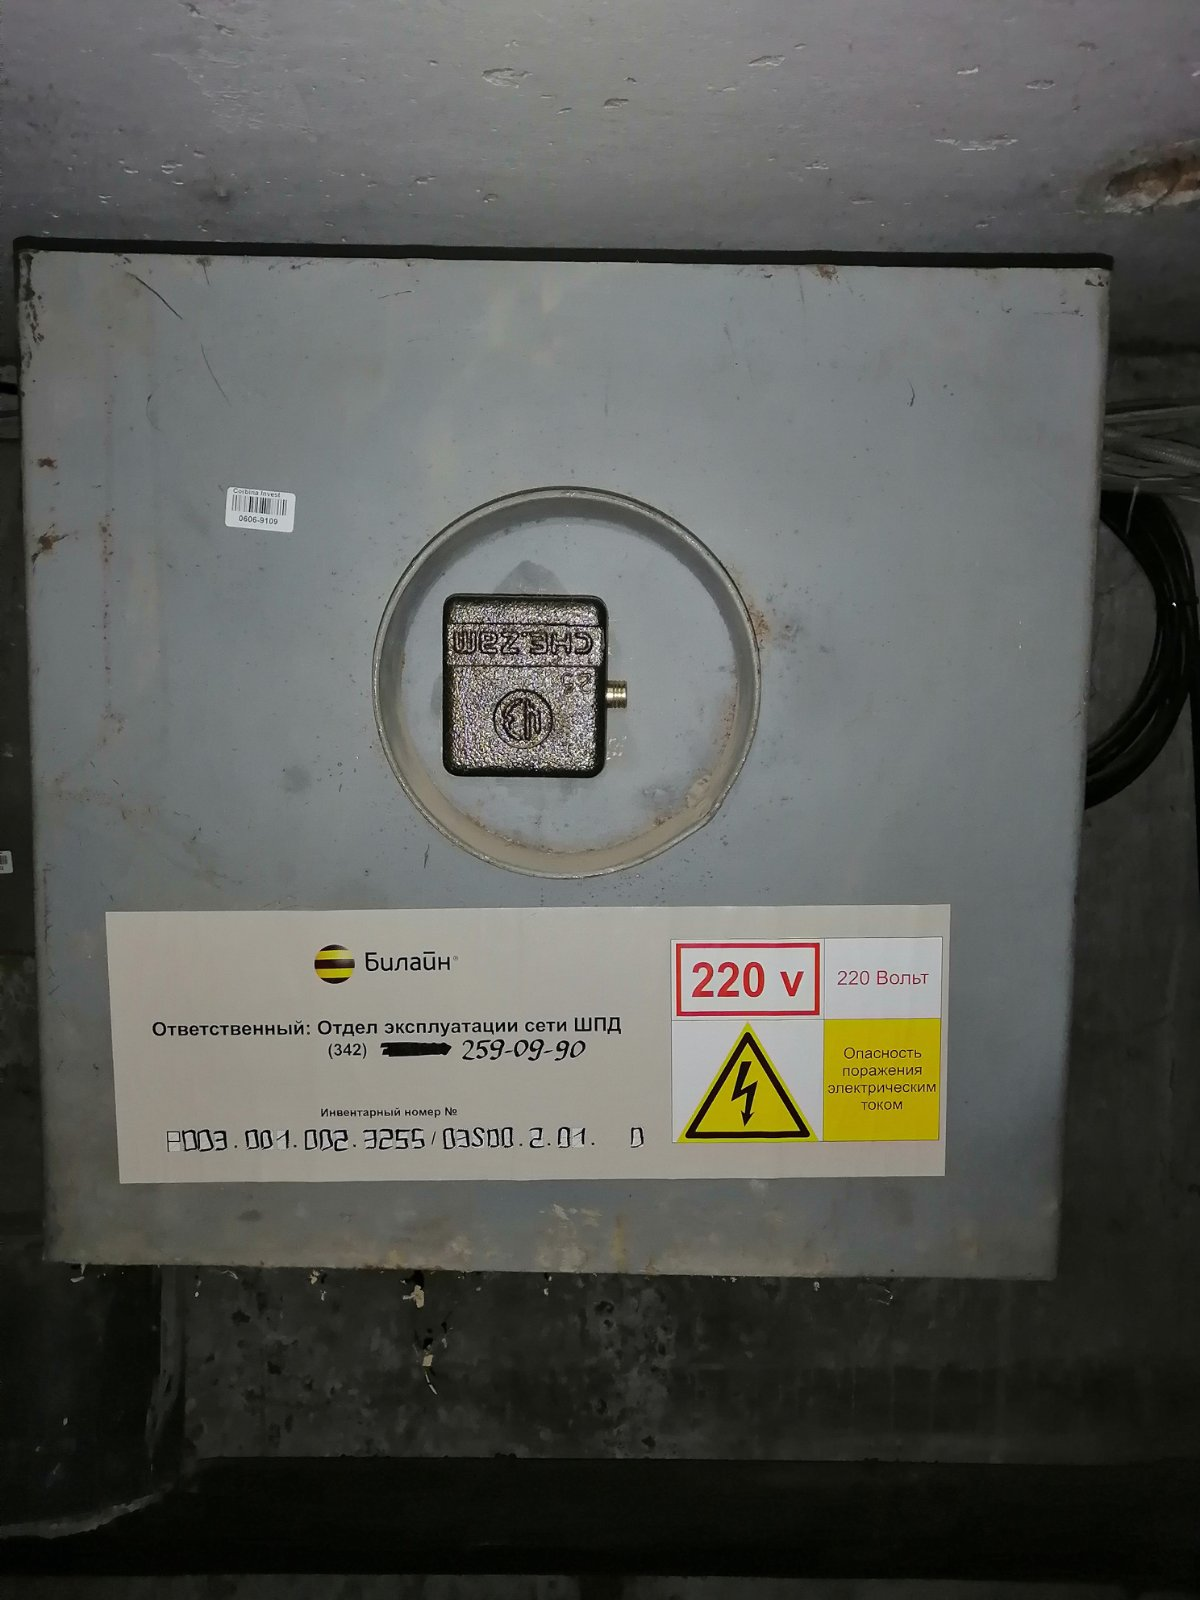shta-9: (10, 231, 1118, 1304)
